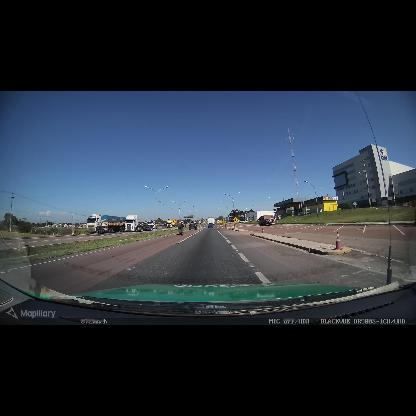A-32b: (232, 216, 239, 223), (170, 219, 177, 225)
R-5a: (181, 221, 184, 224)
